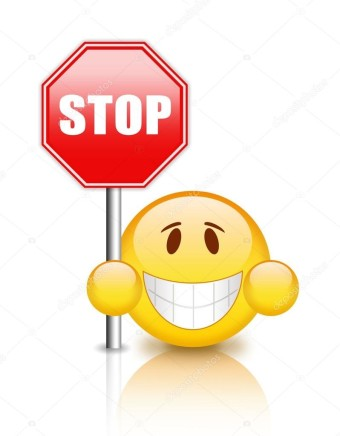SS: (42, 45, 185, 192)
